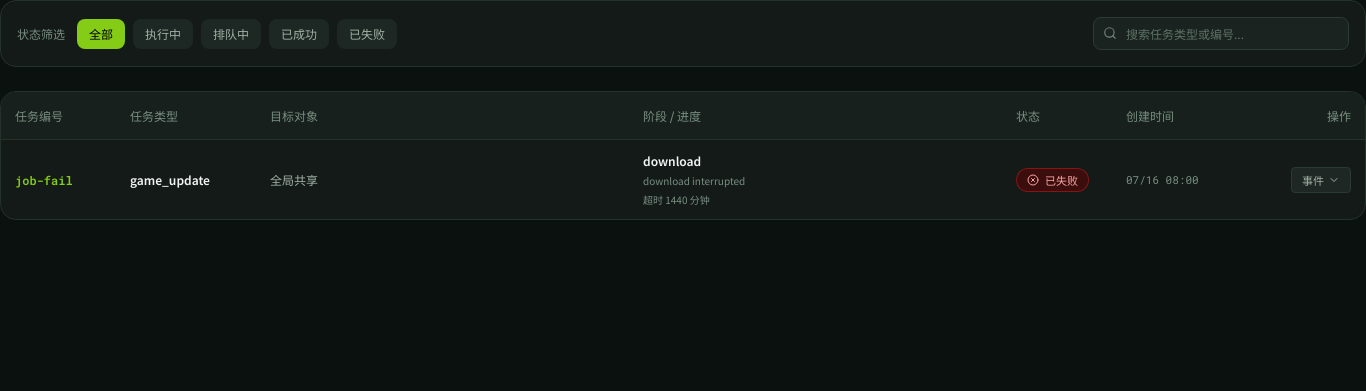
Test case: JobsPage › collapses a terminal job and reuses its cached details
Step 1. Click the button with aria-label "查看 game_update 任务日志，任务 ID job-failed" → (1321,180), box [1291,166,1351,192]
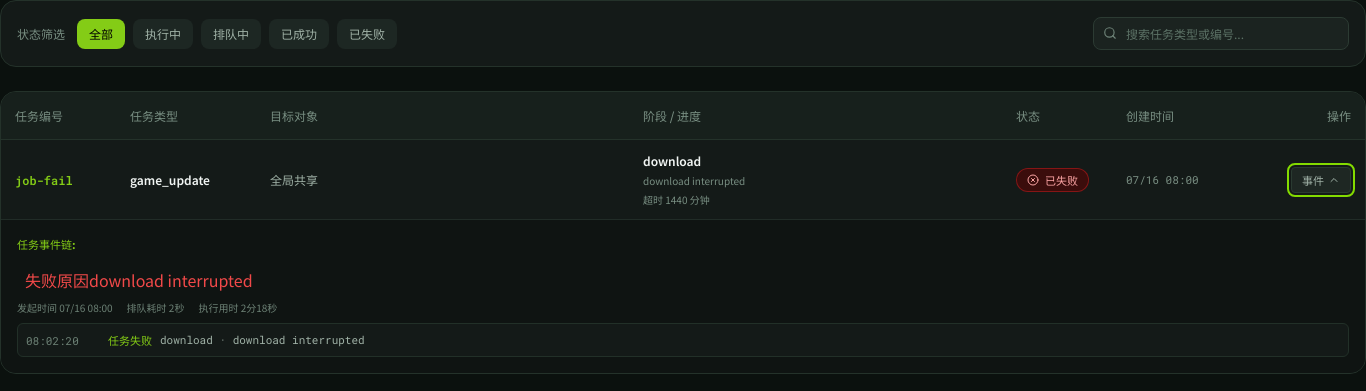
Expected: the text "任务失败" is shown, [108,332,152,348]
Expected: the button with aria-label "查看 game_update 任务日志，任务 ID job-failed" is expanded
Step 2. Click the button with aria-label "查看 game_update 任务日志，任务 ID job-failed" → (1321,180), box [1291,166,1351,192]
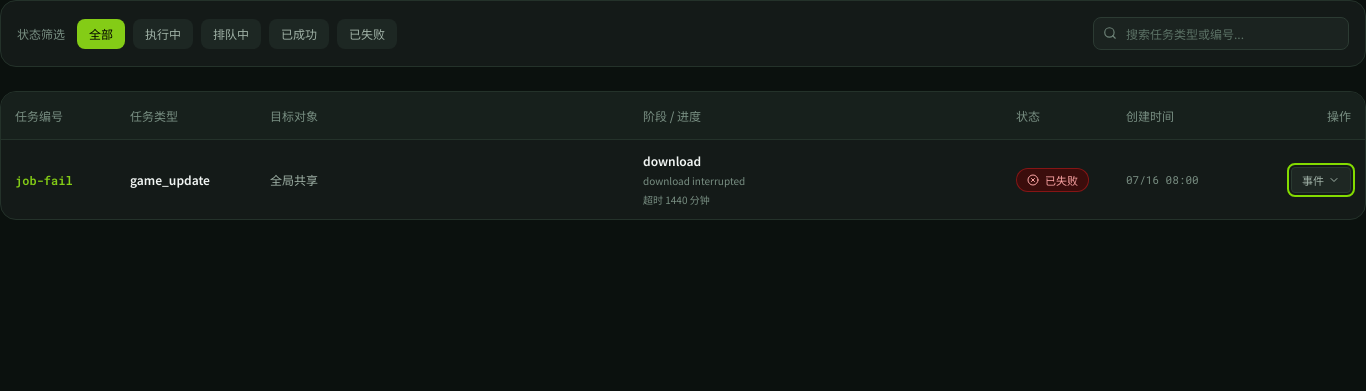
Expected: the button with aria-label "查看 game_update 任务日志，任务 ID job-failed" is collapsed
Step 3. Click the button with aria-label "查看 game_update 任务日志，任务 ID job-failed" → (1321,180), box [1291,166,1351,192]
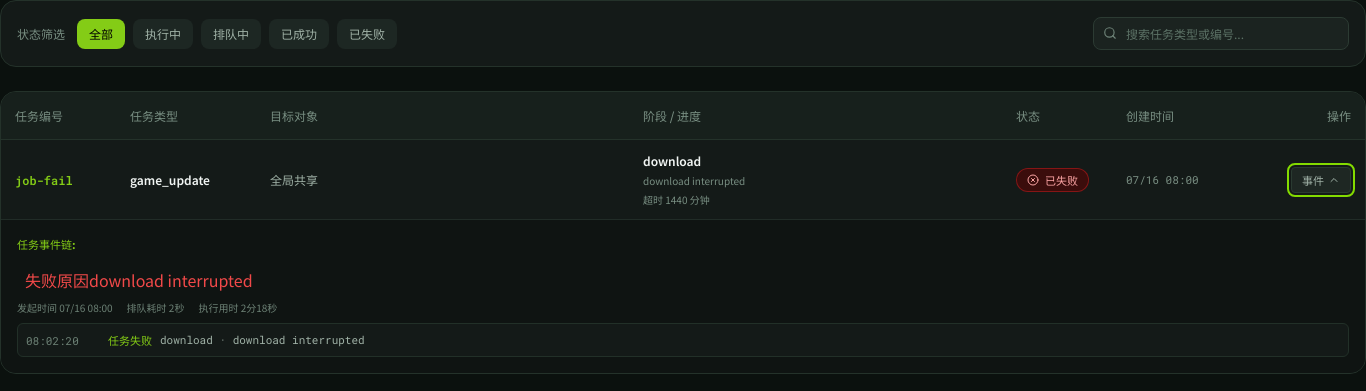
Expected: the text "任务失败" is shown, [108,332,152,348]
